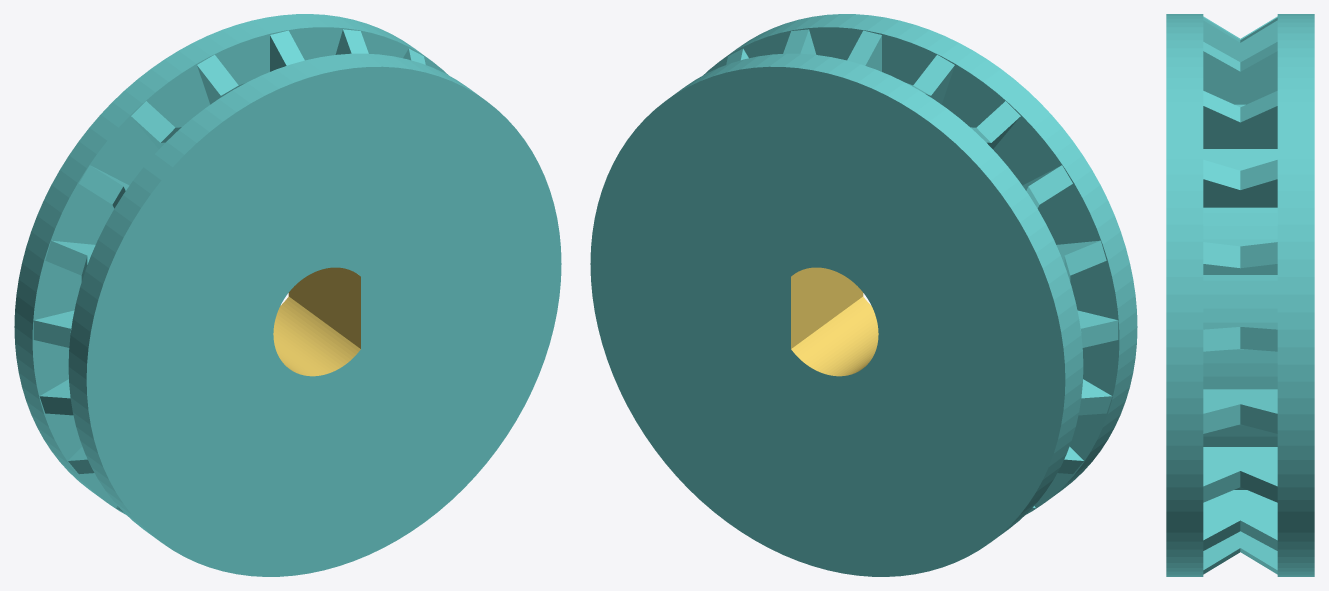
The model's file is gear1.glb.
The picture shows the model from 3 angles, left to right: view 1: azimuth 30°, elevation 25°; view 2: azimuth 150°, elevation 25°; view 3: azimuth 270°, elevation 25°; orthographic projection. The views are drawn at different scales.
Visible parts, largest first — view 1: gear_teal, gear_gold; view 2: gear_teal, gear_gold; view 3: gear_teal.
Boxes of the visible parts, x1=… form: gear_teal: x1=14, y1=14, x2=561, y2=576; gear_gold: x1=273, y1=267, x2=360, y2=376; gear_teal: x1=590, y1=14, x2=1137, y2=576; gear_gold: x1=791, y1=267, x2=878, y2=376; gear_teal: x1=1166, y1=14, x2=1314, y2=576.
Size of the model in its own units: 38 by 38 by 10.
